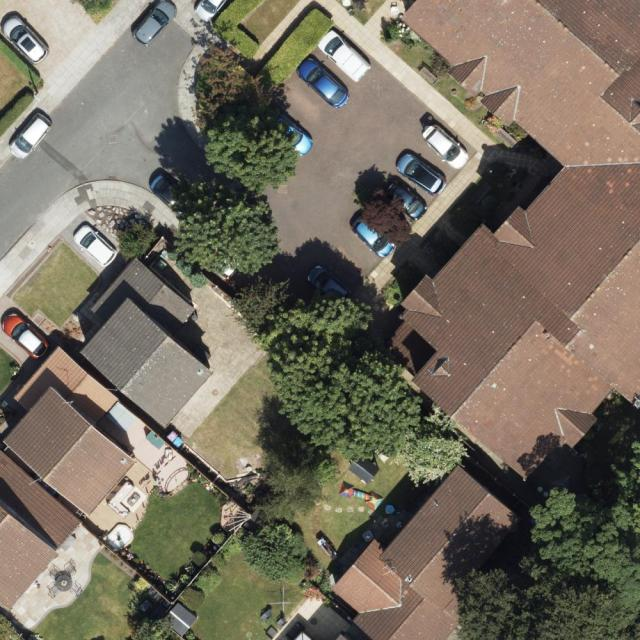roof: (373, 0, 640, 485), (0, 347, 139, 616), (335, 463, 524, 640), (80, 259, 214, 427)
